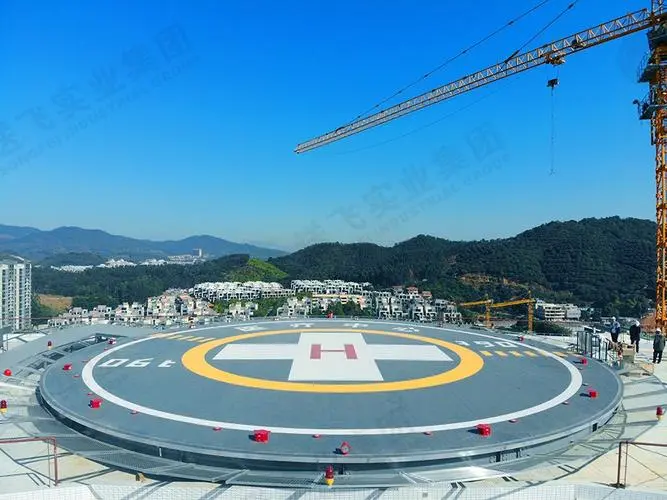Apron: (181, 327, 485, 396)
